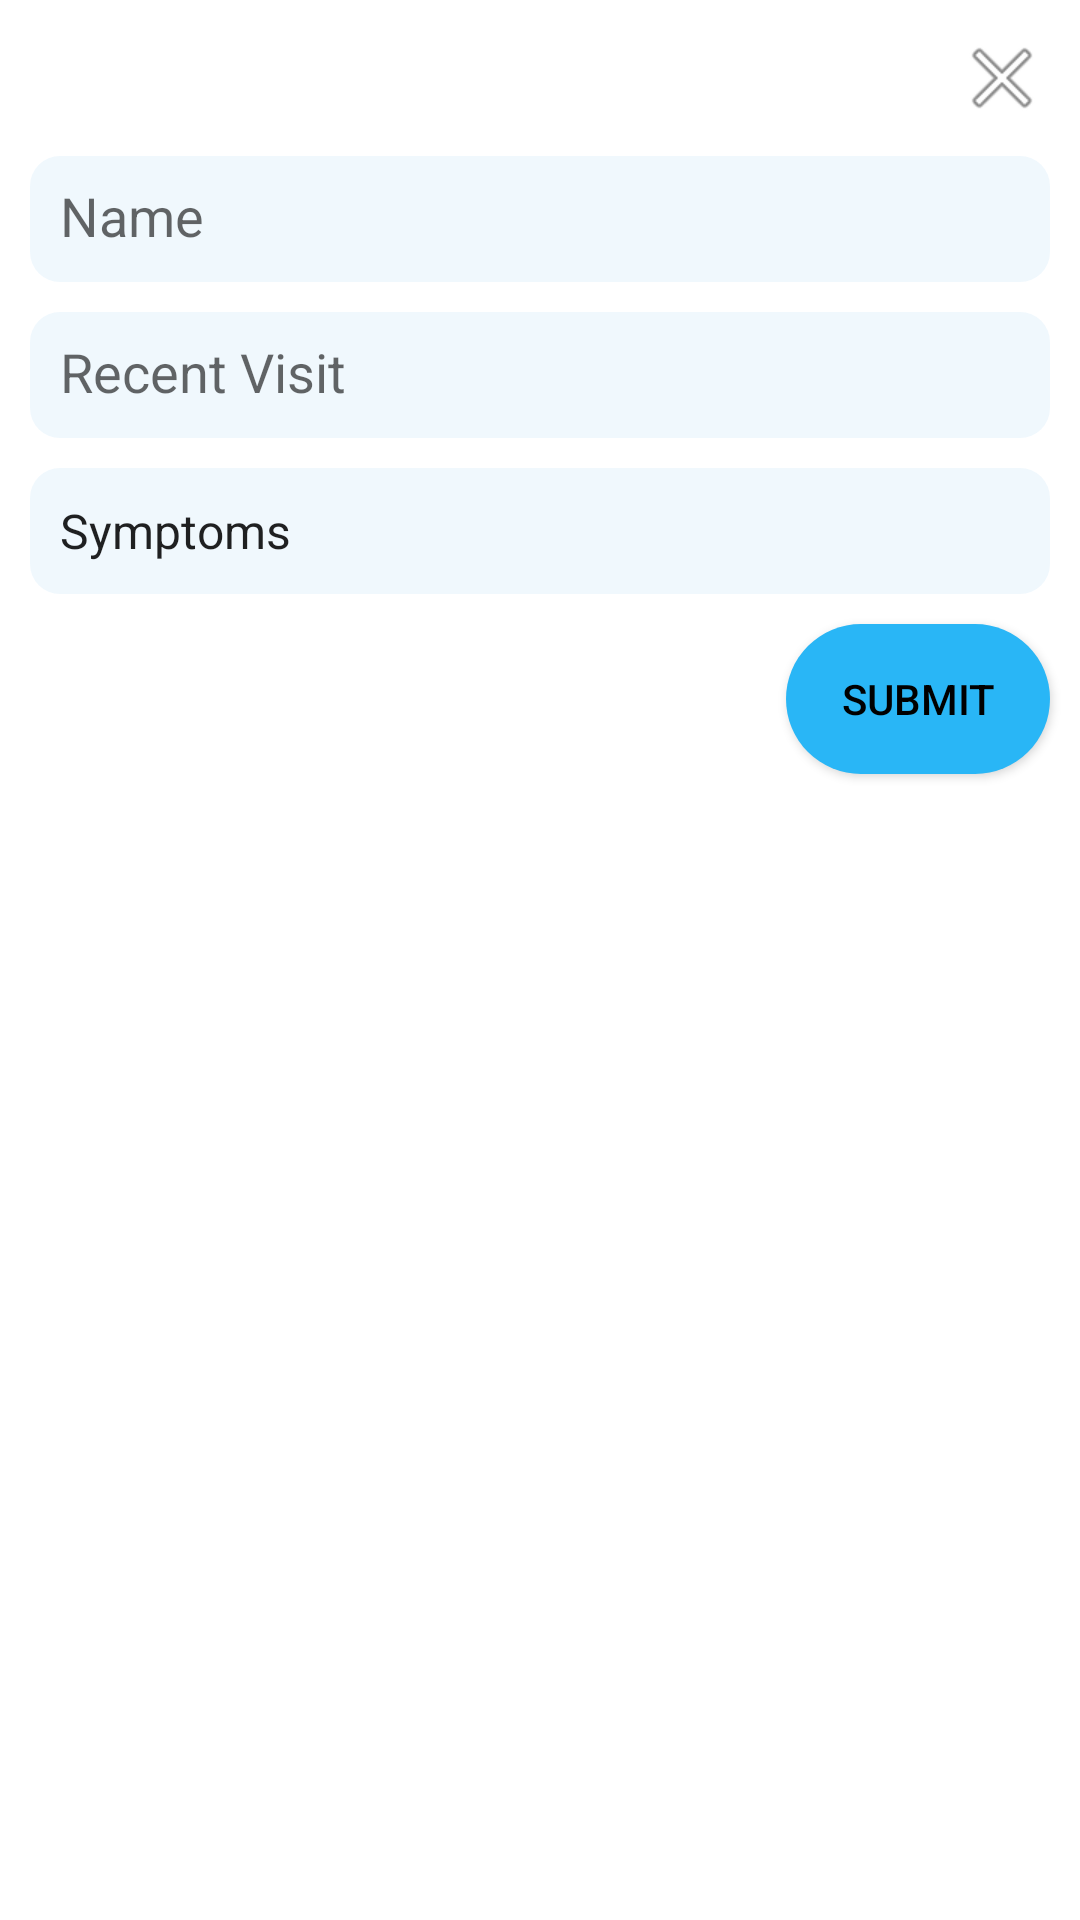

Locate icon controls on the screen. Image size 1080×1920, boxes as (x1, y1, x2, y2).
close clear cancel: (972, 48, 1032, 108)
